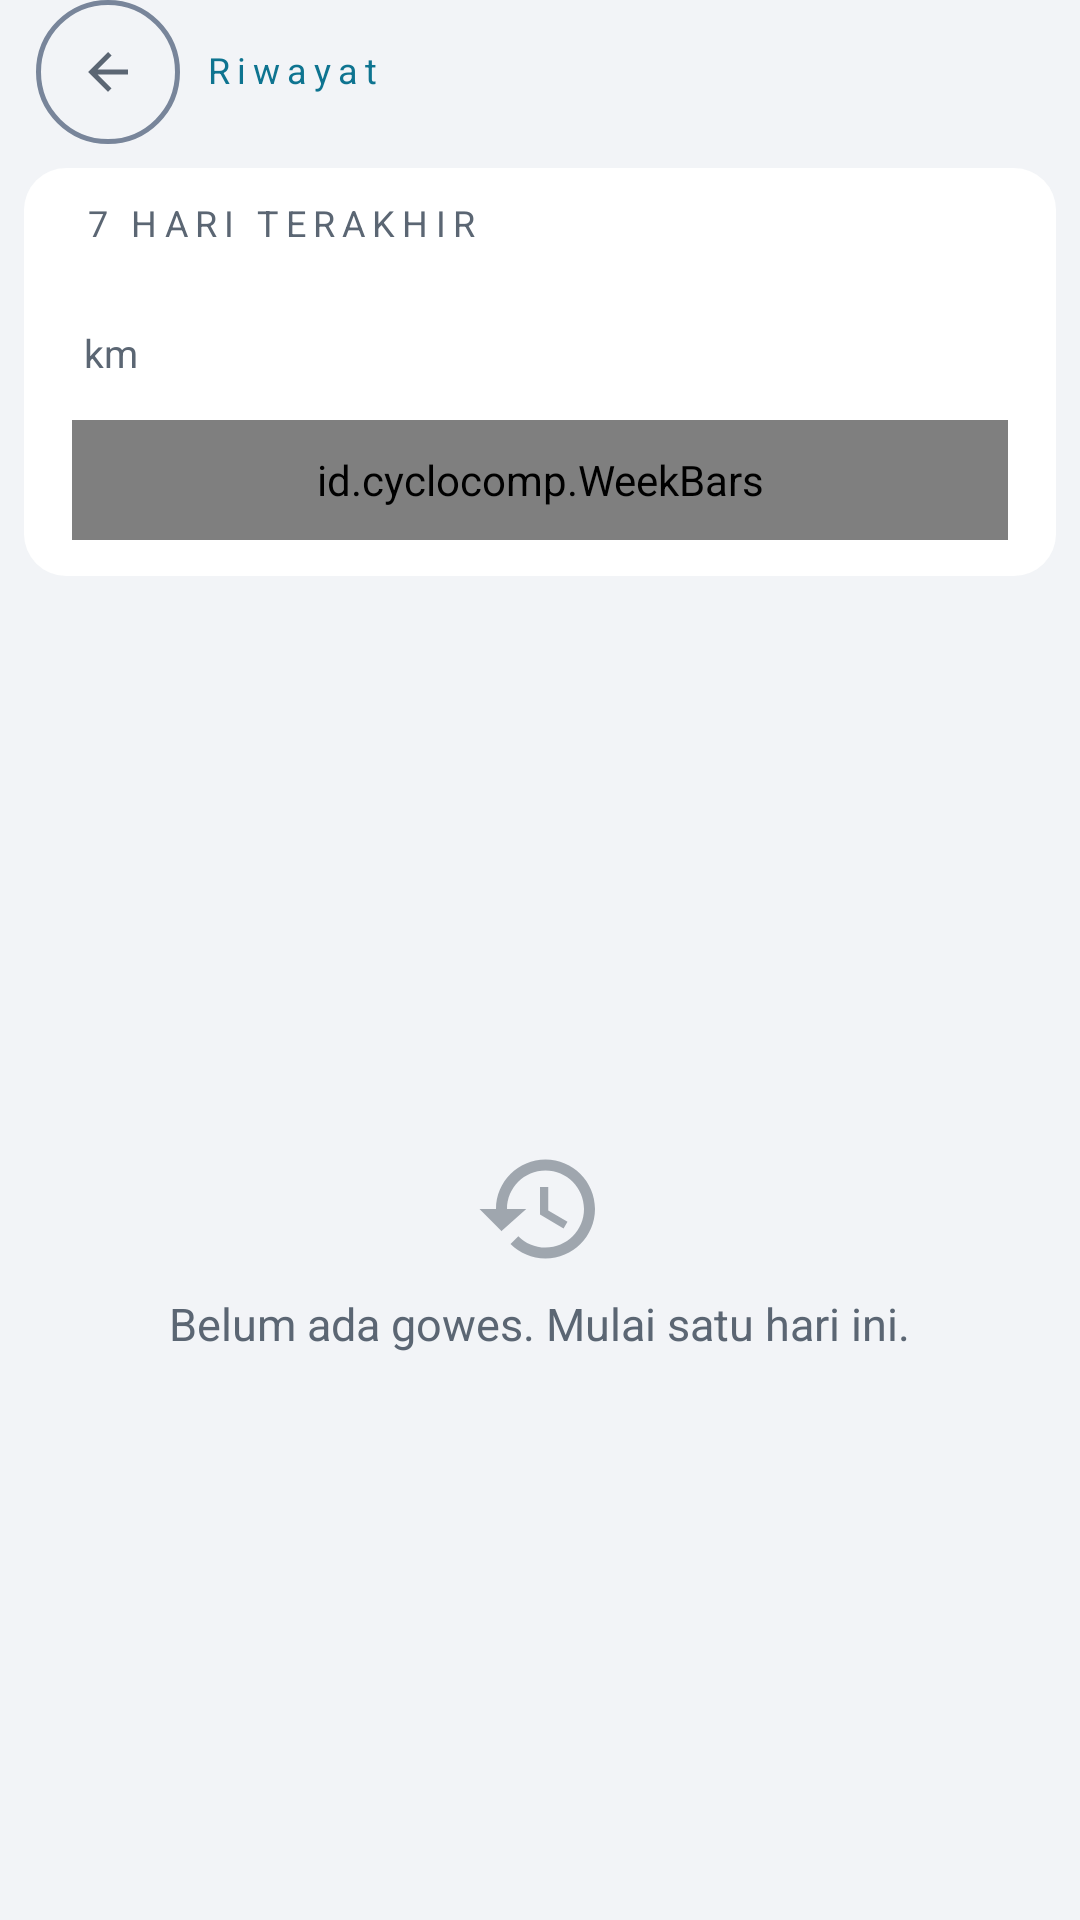

Locate icon controls on the screen. Image size 1080×1920, boxes as (x1, y1, x2, y2).
history: (480, 1159, 595, 1259)
Kembali: (36, 0, 180, 144)
